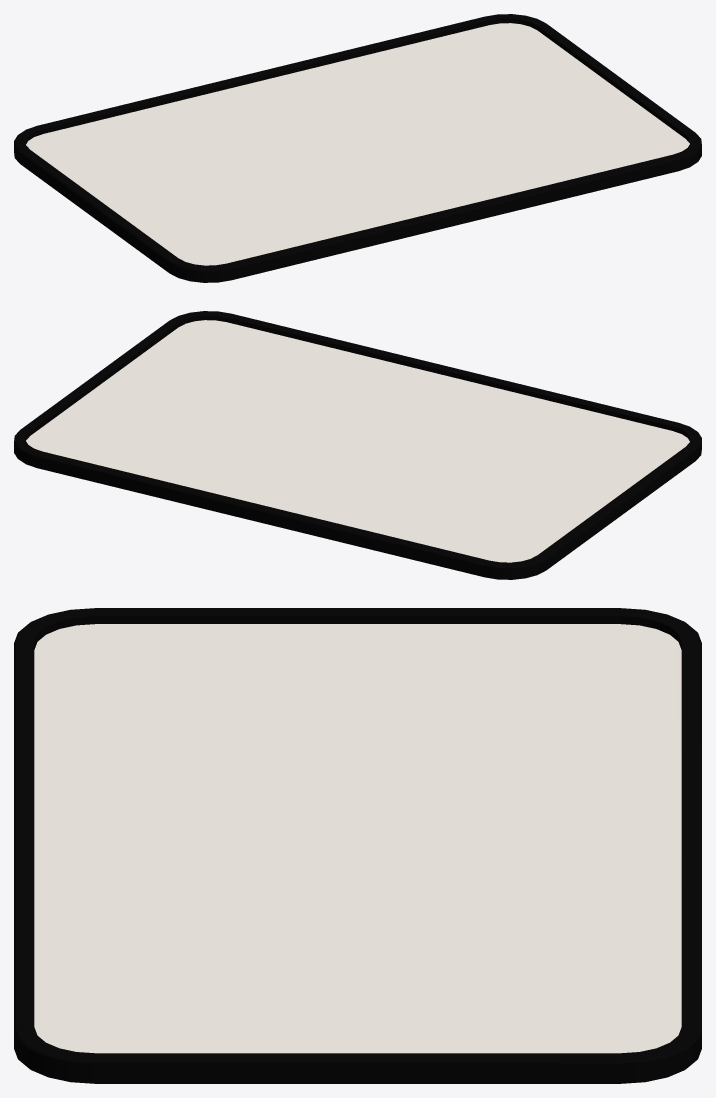
Rendered from tablet.fbx.
3 views of the same model, one above another, from view 1: azimuth 30°, elevation 25°; view 2: azimuth 150°, elevation 25°; view 3: azimuth 270°, elevation 25° (orthographic). The views are drawn at different scales.
Visible parts, largest first — view 1: Cube; view 2: Cube; view 3: Cube.
Part boxes in pixels (x1,y1,x2,y2): Cube: (14,14,701,282); Cube: (14,311,701,579); Cube: (14,608,701,1083).
Size of the model in its own units: 602 by 14.02 by 385.
